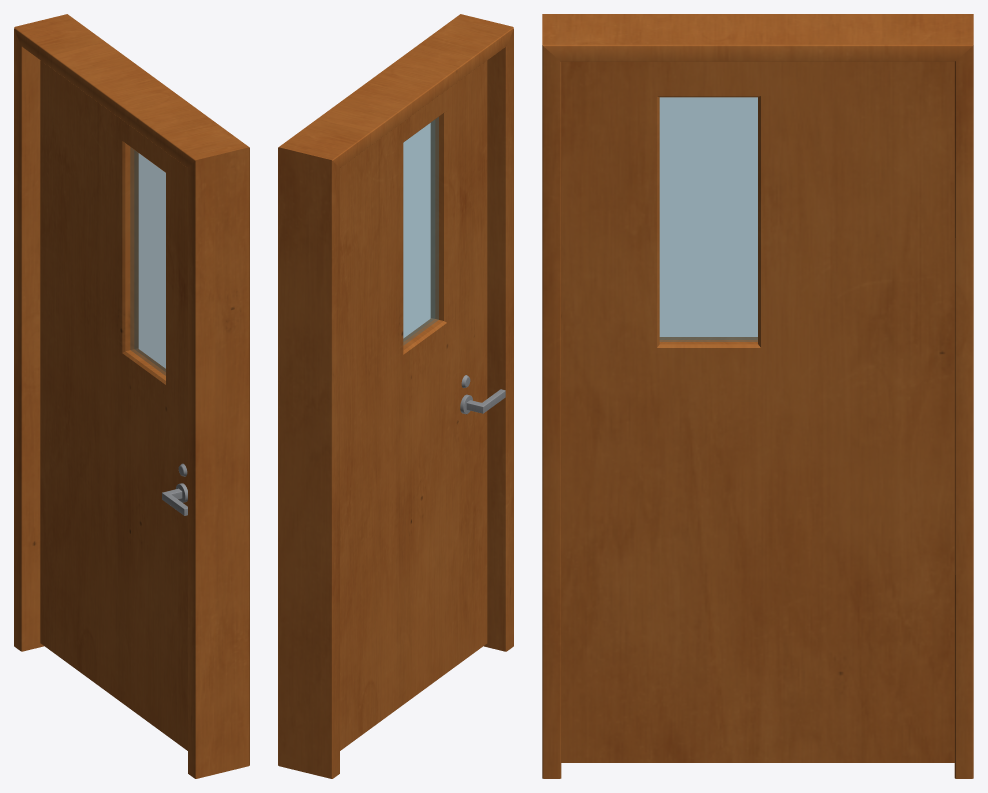
File: Door.fbx
The picture shows the model from 3 angles, left to right: view 1: azimuth 30°, elevation 25°; view 2: azimuth 150°, elevation 25°; view 3: azimuth 270°, elevation 25°; orthographic projection. The views are drawn at different scales.
Parts seen in each view (by area): view 1: Door; view 2: Door; view 3: Door.
Boxes of the visible parts, bbox=[...] form: Door: bbox=[14, 14, 249, 778]; Door: bbox=[278, 14, 513, 778]; Door: bbox=[542, 14, 973, 778].
Bounding box in the file's own units: 20.78 × 218 × 116.
